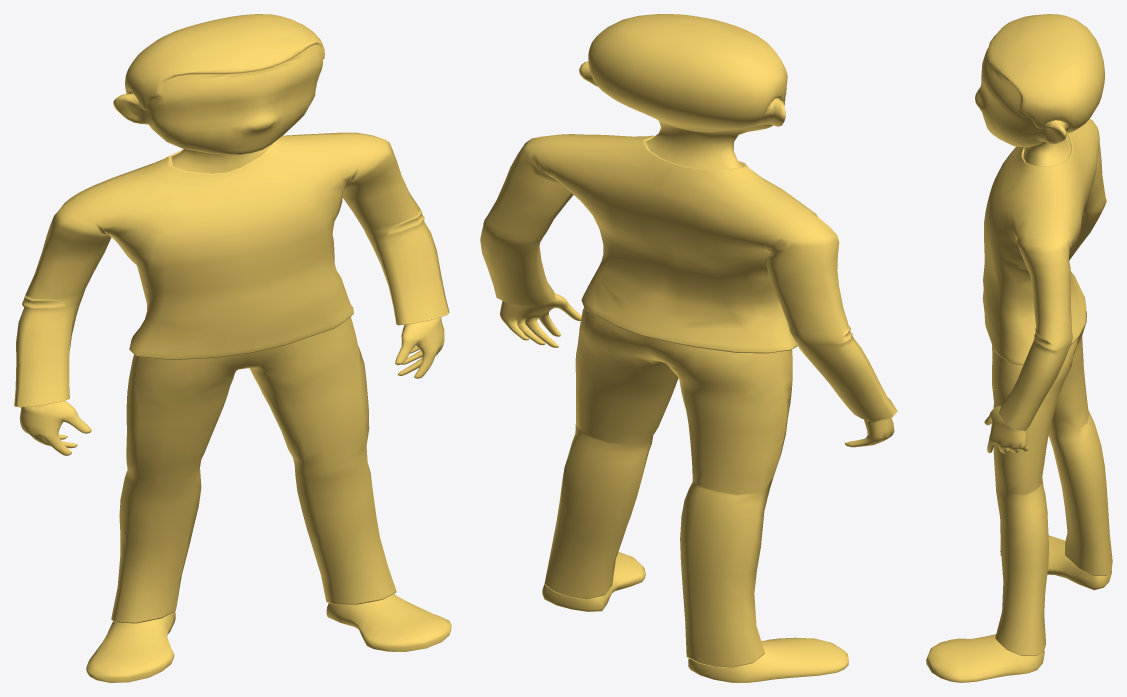
The picture shows the model from 3 angles, left to right: view 1: azimuth 30°, elevation 25°; view 2: azimuth 150°, elevation 25°; view 3: azimuth 270°, elevation 25°; orthographic projection. The views are drawn at different scales.
Size of the model in its own units: 0.1733 by 0.243 by 0.0722.
Materials: 1 (1 with a texture image).
